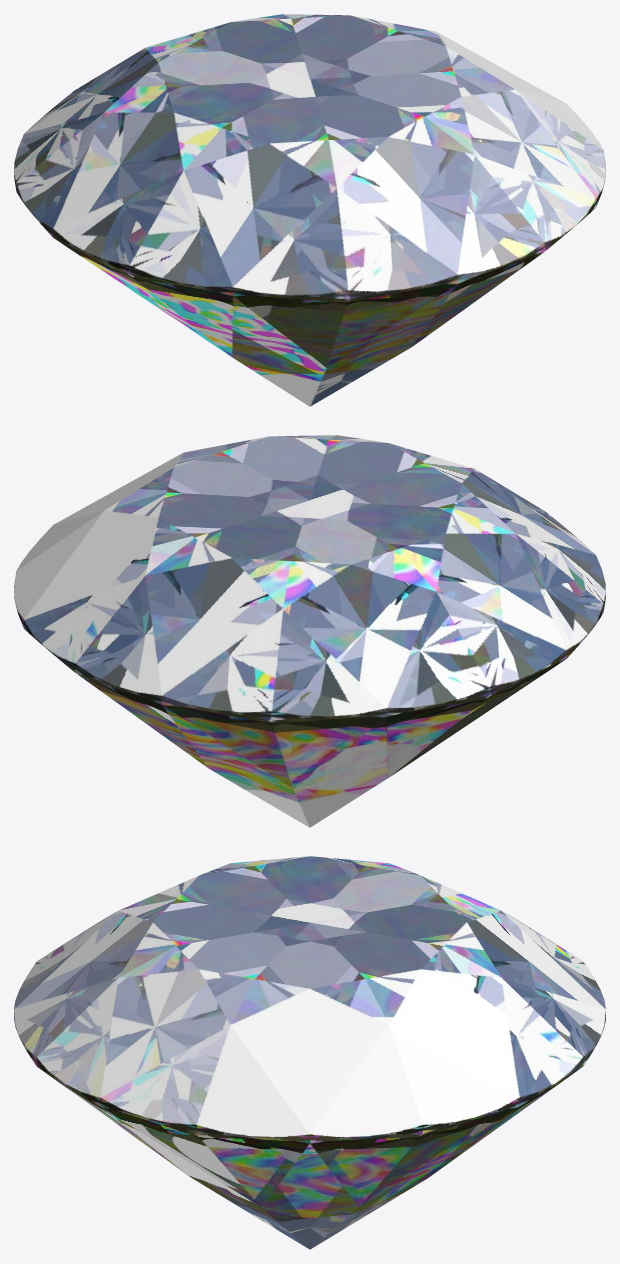
Rendered from diamond_shine4.glb.
3 renders of one model, top to bottom at view 1: azimuth 30°, elevation 25°; view 2: azimuth 150°, elevation 25°; view 3: azimuth 270°, elevation 25°, orthographic.
Parts seen in each view (by area): view 1: diamond_big1; view 2: diamond_big1; view 3: diamond_big1.
Part boxes in pixels (x1,y1,x2,y2): diamond_big1: (14,14,605,406); diamond_big1: (14,435,605,827); diamond_big1: (14,856,605,1249).
Bounding box in the file's own units: 2 × 1.22 × 2.
Materials: 1 (1 with a texture image).
